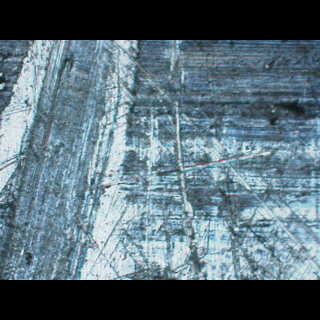d: (0, 105, 316, 279), (0, 41, 144, 279)
